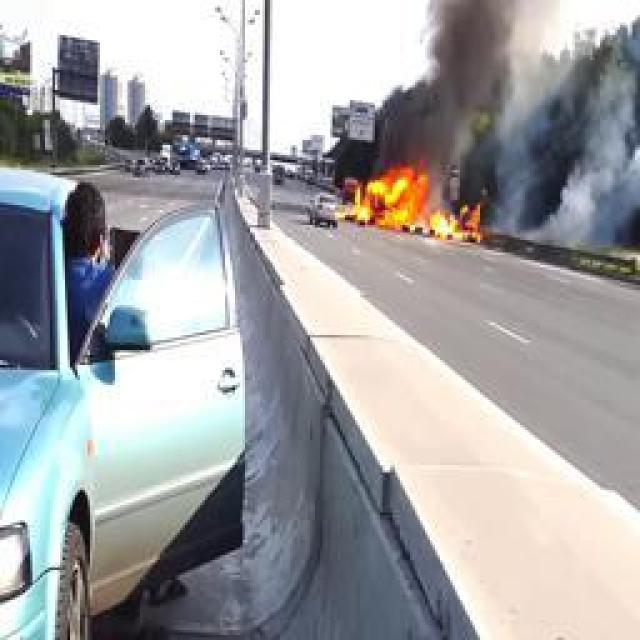Fire: (344, 162, 482, 240)
